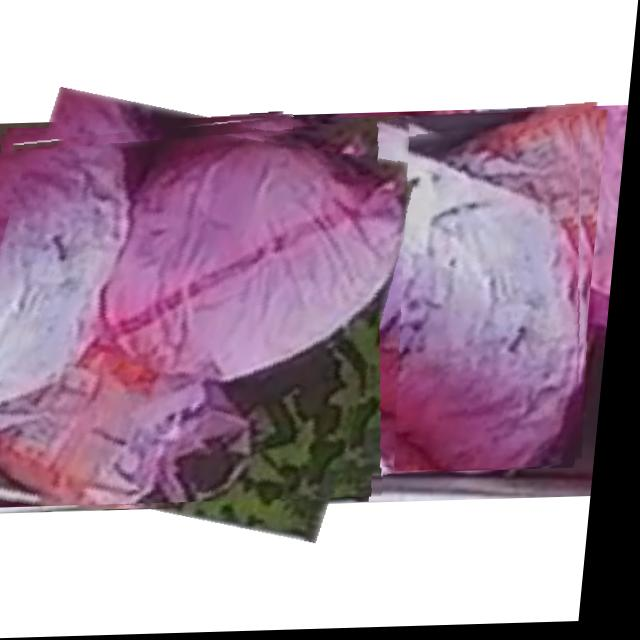other_trashbag: (0, 134, 411, 505), (271, 141, 587, 472), (5, 119, 287, 363)
